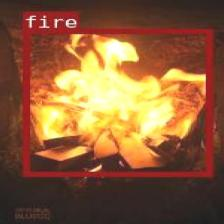fire: (22, 28, 211, 176)
